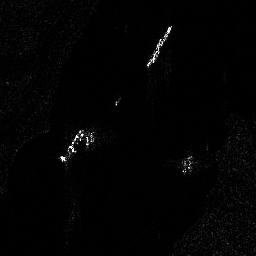ship: (145, 24, 172, 68), (61, 127, 83, 162)
